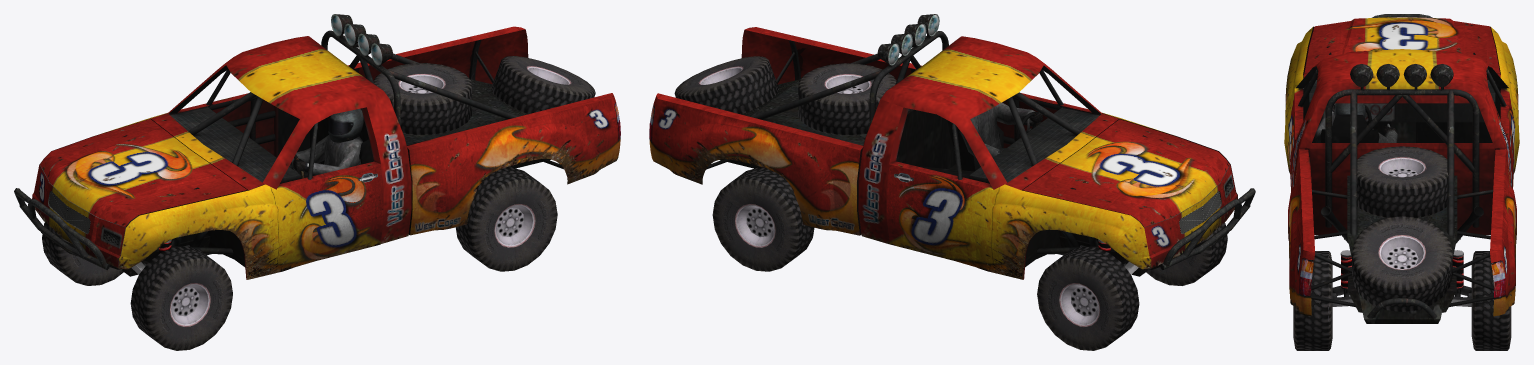
File: Truck_01.FBX
3 views of the same model, side by side, from view 1: azimuth 30°, elevation 25°; view 2: azimuth 150°, elevation 25°; view 3: azimuth 270°, elevation 25° (orthographic).
Parts seen in each view (by area): view 1: truck_full_player, Hood, wheel_LF, wheel_LR, Spare01, Spare02, wheel_RF; view 2: truck_full_player, Hood, wheel_RF, wheel_RR, Spare01, Spare02, wheel_LF; view 3: truck_full_player, Spare02, Hood, Spare01, wheel_RR, wheel_LR, suspension_RR, suspension_LR.
Part boxes in pixels (left/top/right/bottom): truck_full_player: left=14, top=14, right=620, bottom=279; Hood: left=40, top=119, right=247, bottom=227; wheel_LF: left=130, top=246, right=232, bottom=350; wheel_LR: left=455, top=167, right=557, bottom=271; Spare01: left=373, top=63, right=471, bottom=135; Spare02: left=491, top=56, right=595, bottom=114; wheel_RF: left=42, top=222, right=123, bottom=285; truck_full_player: left=649, top=14, right=1255, bottom=279; Hood: left=1022, top=119, right=1229, bottom=227; wheel_RF: left=1037, top=246, right=1139, bottom=350; wheel_RR: left=712, top=167, right=814, bottom=271; Spare01: left=798, top=63, right=896, bottom=135; Spare02: left=674, top=56, right=778, bottom=114; wheel_LF: left=1146, top=222, right=1227, bottom=285; truck_full_player: left=1284, top=14, right=1519, bottom=323; Spare02: left=1352, top=216, right=1452, bottom=311; Hood: left=1304, top=17, right=1499, bottom=73; Spare01: left=1356, top=146, right=1448, bottom=217; wheel_RR: left=1471, top=251, right=1511, bottom=350; wheel_LR: left=1293, top=251, right=1332, bottom=350; suspension_RR: left=1451, top=250, right=1471, bottom=306; suspension_LR: left=1332, top=250, right=1353, bottom=306.
Size of the model in its own units: 264 by 106 by 97.62.
